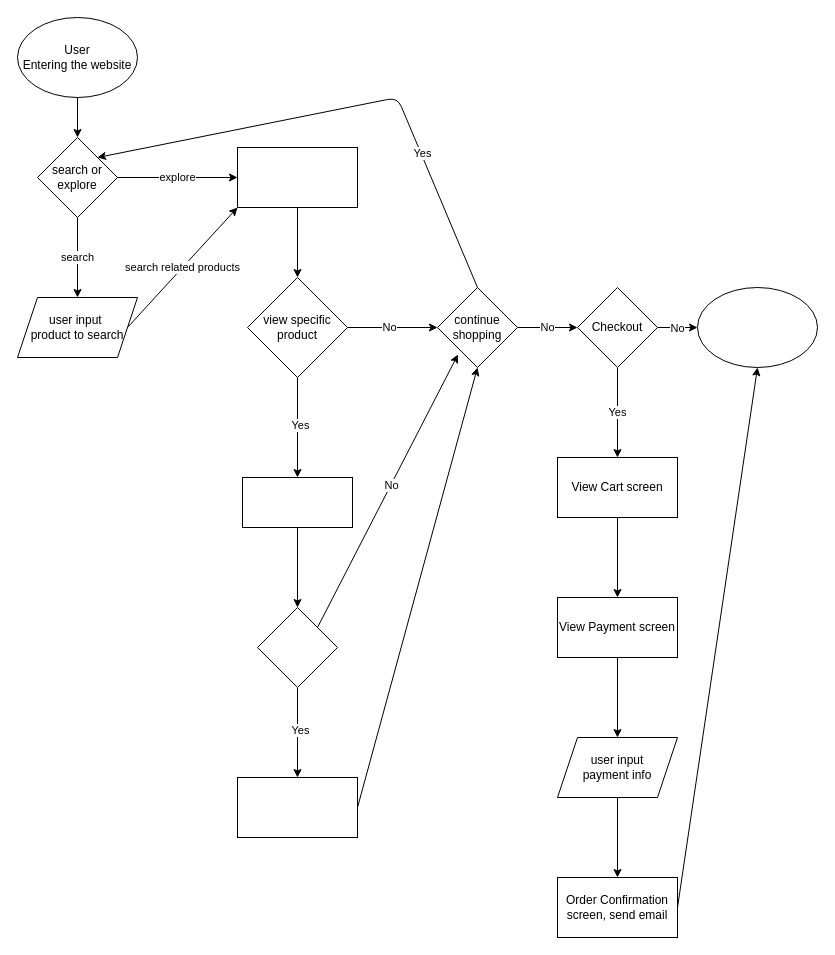
This 835x955 diagram has some shape labels left out. Here are the shapes that lost their labels. From the top down, the centre of each, then its label:
At [297,177]: "show products on home page".
At [757,327]: "User Leaving Website".
At [297,502]: "specific product's webpage".
At [297,647]: "add to cart".
At [297,807]: "added to cart confirmation".
